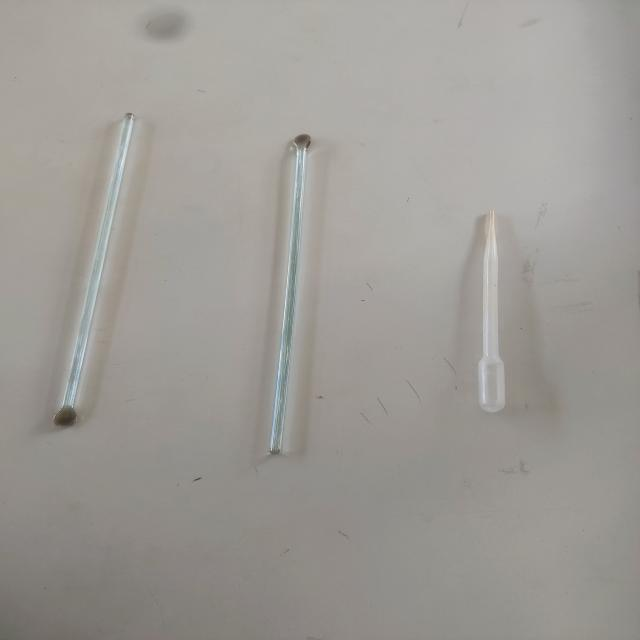Glass_Rod: (43, 72, 152, 471), (244, 104, 342, 485)
Pipette: (434, 186, 568, 430)
